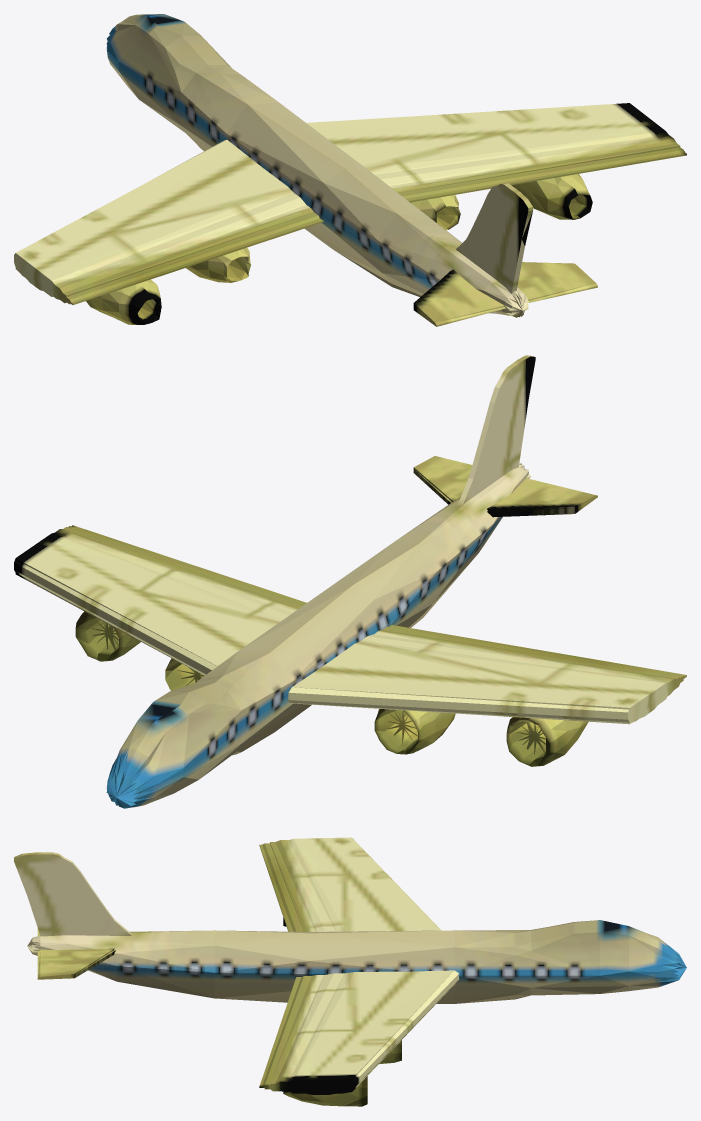
3 renders of one model, top to bottom at view 1: azimuth 30°, elevation 25°; view 2: azimuth 150°, elevation 25°; view 3: azimuth 270°, elevation 25°, orthographic. The views are drawn at different scales.
Visible parts, largest first — view 1: B747; view 2: B747; view 3: B747.
Part boxes in pixels (x1,y1,x2,y2): B747: [14, 14, 686, 326]; B747: [14, 355, 686, 808]; B747: [14, 837, 686, 1106].
Bounding box in the file's own units: 286 × 92.56 × 337.
1 material, 1 textured.
